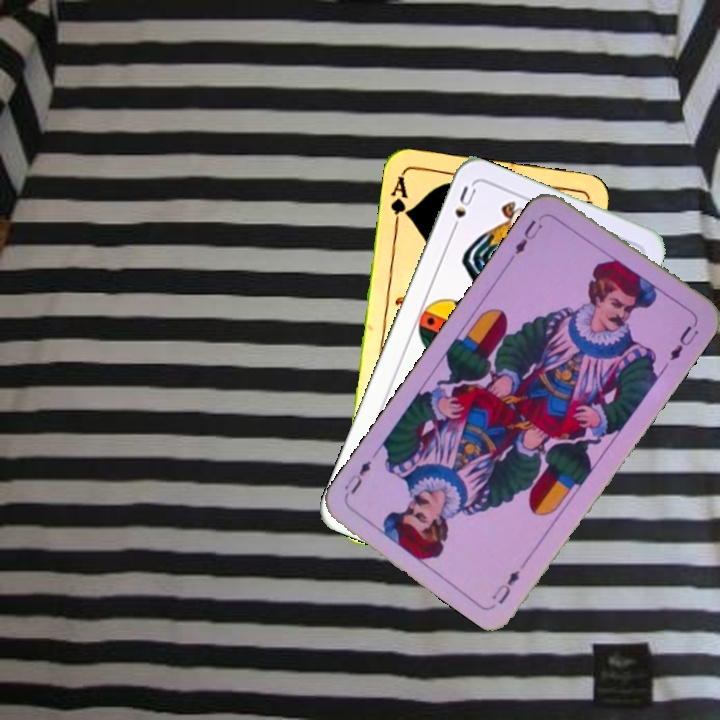EU: (510, 211, 546, 257), (488, 566, 523, 607)
GA: (386, 172, 412, 231)
SU: (447, 181, 479, 237)
